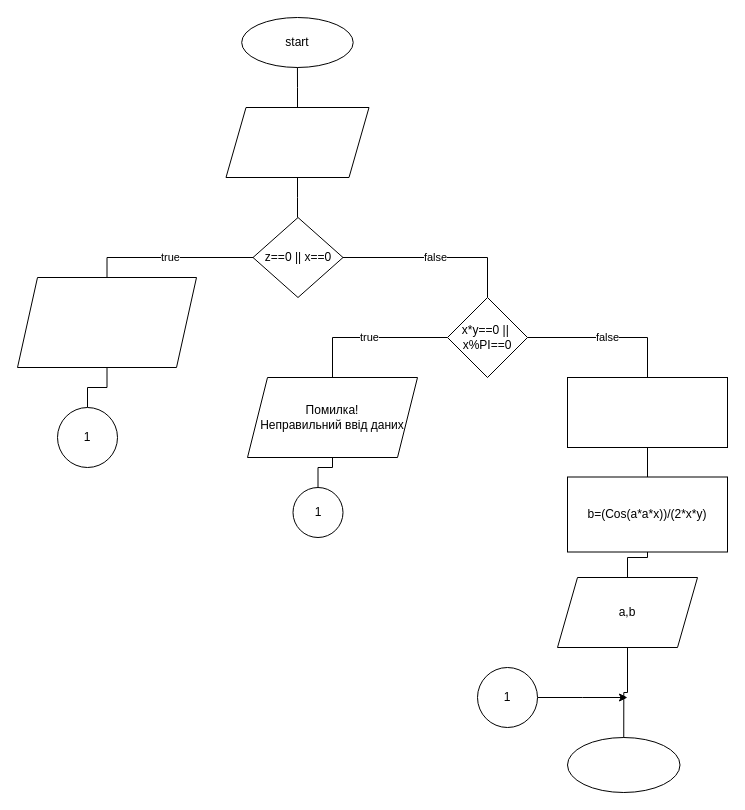
This 745x810 diagram has some shape labels left out. Each missing label, with the centre of its shape:
"a=(1/(2*Sin(PI+x))+ +Pow(Sin((x+y)/z),2))" goes at point 647,412.
"end" goes at point 623,764.
"x,y,z є R" goes at point 297,142.
"Помилка! Неправильний ввід даних." goes at point 106,322.
